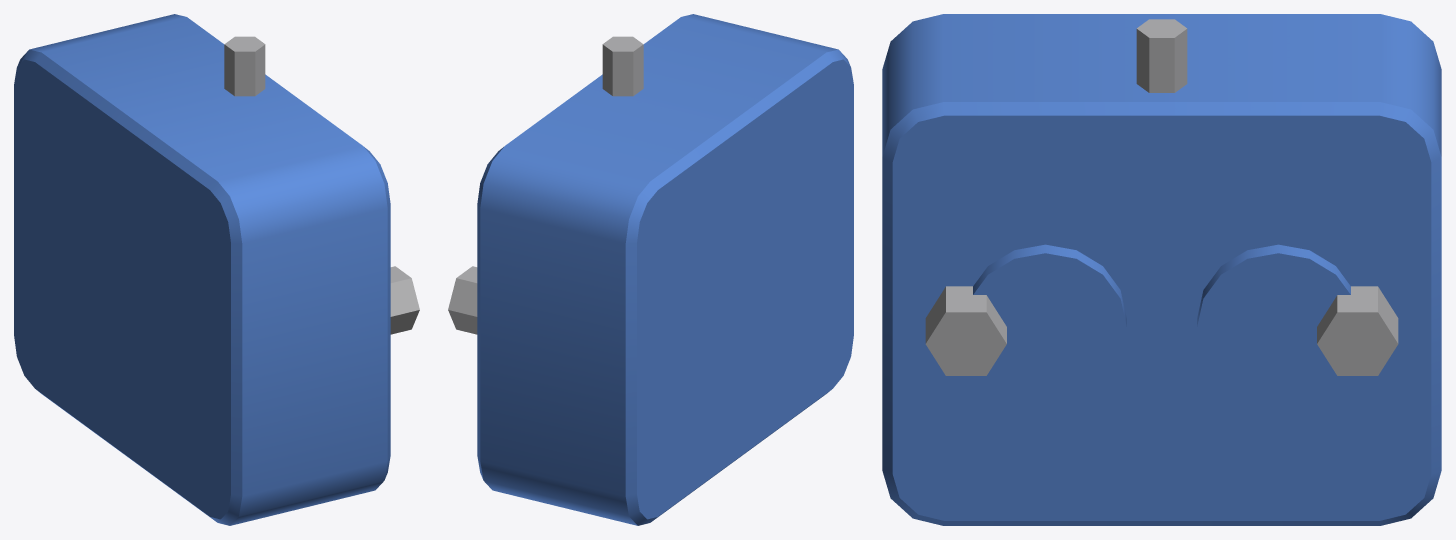
File: four_piston_radial.glb
3 renders of one model, left to right at view 1: azimuth 30°, elevation 25°; view 2: azimuth 150°, elevation 25°; view 3: azimuth 270°, elevation 25°, orthographic. The views are drawn at different scales.
Visible parts, largest first — view 1: lod0; view 2: lod0; view 3: lod0.
Boxes of the visible parts, bbox=[...] form: lod0: bbox=[14, 14, 419, 525]; lod0: bbox=[448, 14, 853, 525]; lod0: bbox=[882, 14, 1441, 525].
Size of what is drawn, in the model's own units: 0.057 by 0.104 by 0.11.
